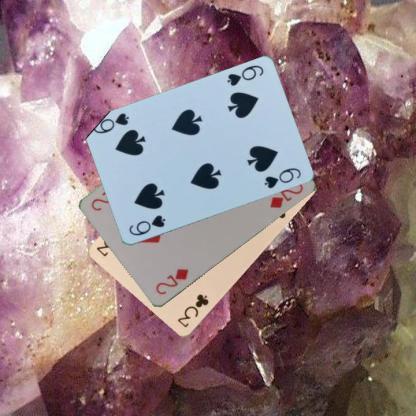2d: (153, 266, 190, 296)
3c: (175, 292, 210, 329)
6s: (224, 62, 265, 88), (126, 212, 166, 237)
